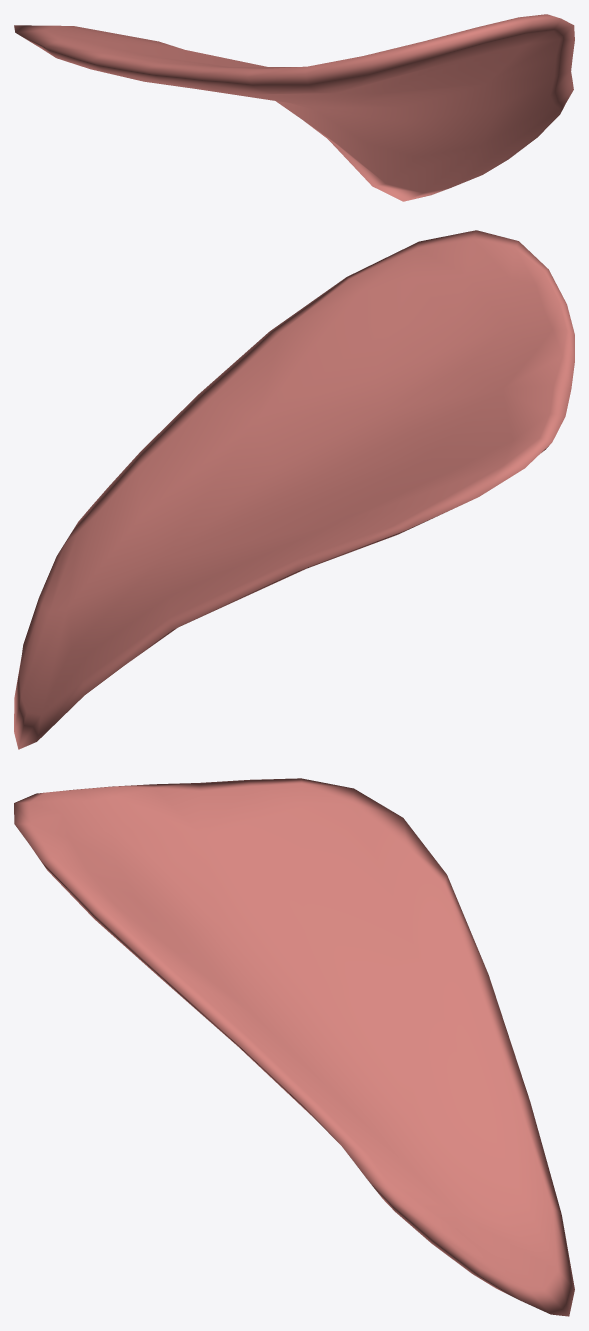
3 renders of one model, top to bottom at view 1: azimuth 30°, elevation 25°; view 2: azimuth 150°, elevation 25°; view 3: azimuth 270°, elevation 25°, orthographic. The views are drawn at different scales.
Visible parts, largest first — view 1: ZA_46d8fde0d8e4a3a0; view 2: ZA_46d8fde0d8e4a3a0; view 3: ZA_46d8fde0d8e4a3a0.
Boxes of the visible parts, x1,y1,x2,y2 form: ZA_46d8fde0d8e4a3a0: (14, 14, 574, 201); ZA_46d8fde0d8e4a3a0: (14, 230, 574, 749); ZA_46d8fde0d8e4a3a0: (14, 778, 574, 1316).
Bounding box in the file's own units: 0.0122 × 0.00968 × 0.0125.
